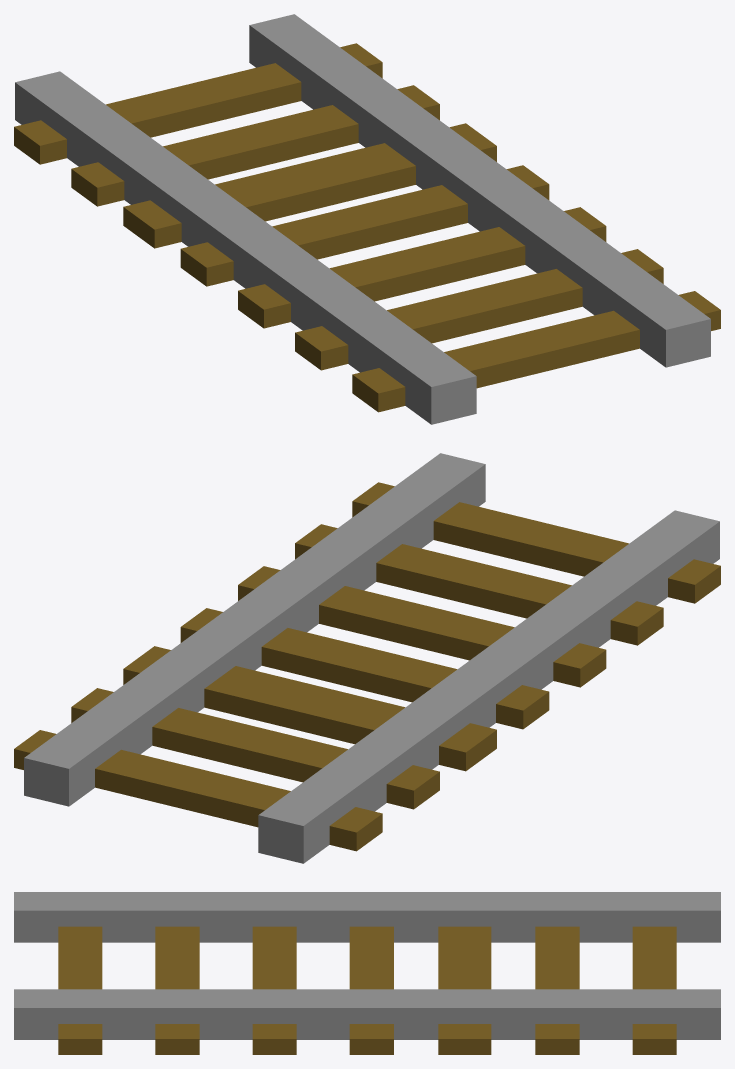
Rendered from straight_rail.fbx.
3 renders of one model, top to bottom at view 1: azimuth 30°, elevation 25°; view 2: azimuth 150°, elevation 25°; view 3: azimuth 270°, elevation 25°, orthographic. The views are drawn at different scales.
Parts seen in each view (by area): view 1: vox_straight_rail_Mesh; view 2: vox_straight_rail_Mesh; view 3: vox_straight_rail_Mesh.
Boxes of the visible parts, x1,y1,x2,y2 form: vox_straight_rail_Mesh: (14, 14, 720, 424); vox_straight_rail_Mesh: (14, 453, 720, 863); vox_straight_rail_Mesh: (14, 892, 720, 1054).
Bounding box in the file's own units: 3.8 × 0.4 × 8.
